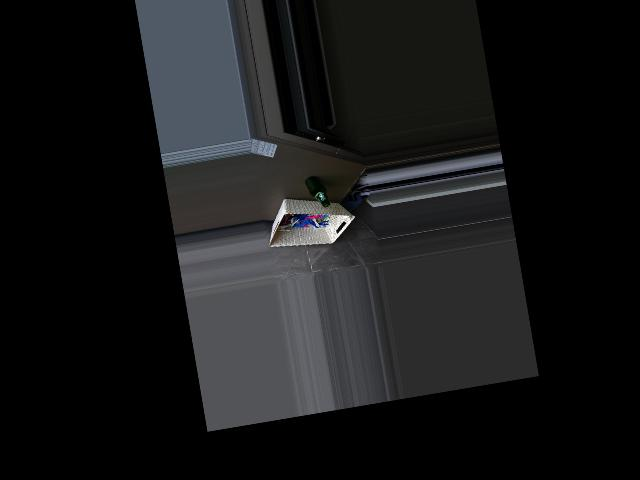beer: (304, 173, 330, 209)
